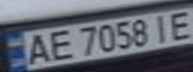0: (97, 21, 118, 53)
5: (115, 19, 136, 51)
7: (75, 24, 100, 56)
8: (130, 16, 154, 47)
A: (18, 30, 54, 68)
E: (42, 27, 78, 62), (163, 8, 193, 41)
I: (148, 12, 172, 43)
